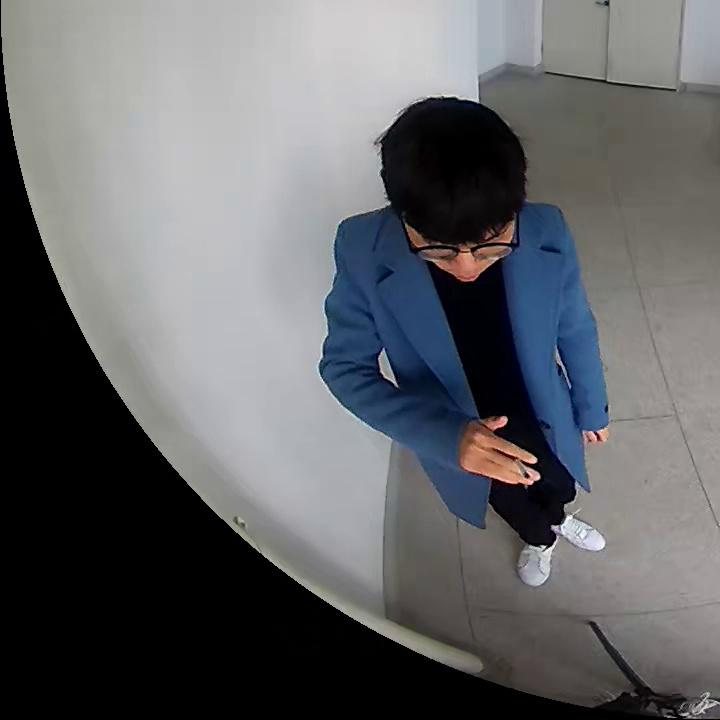handsmoke: (462, 420, 541, 487)
handwithoutsmoke: (583, 427, 614, 449)
mouthwithoutsmoke: (378, 96, 528, 287)
